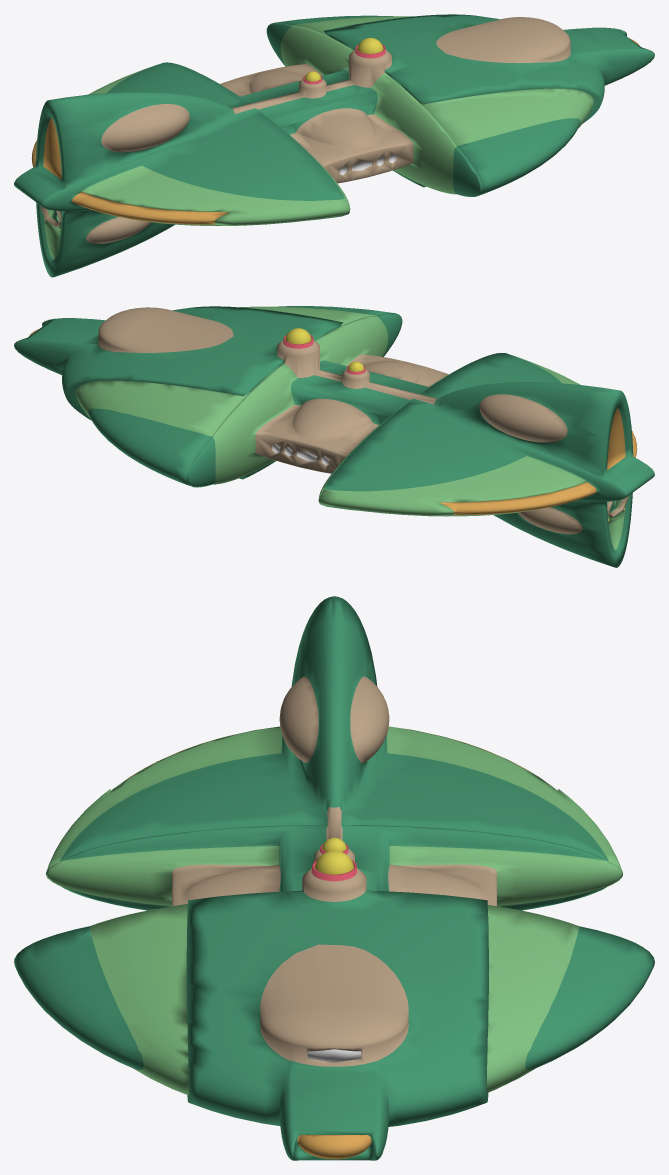
Rendered from sparrowhawk.glb.
3 renders of one model, top to bottom at view 1: azimuth 30°, elevation 25°; view 2: azimuth 150°, elevation 25°; view 3: azimuth 270°, elevation 25°, orthographic. The views are drawn at different scales.
Visible parts, largest first — view 1: Sparrowhawk current hull - authored COLOR_0 regions; view 2: Sparrowhawk current hull - authored COLOR_0 regions; view 3: Sparrowhawk current hull - authored COLOR_0 regions.
Boxes of the visible parts, box(x1,y1,x2,y2) form: Sparrowhawk current hull - authored COLOR_0 regions: box(14, 14, 654, 277); Sparrowhawk current hull - authored COLOR_0 regions: box(14, 306, 654, 567); Sparrowhawk current hull - authored COLOR_0 regions: box(14, 596, 654, 1160).
Size of the model in its own units: 5.43 by 1.49 by 3.31.
